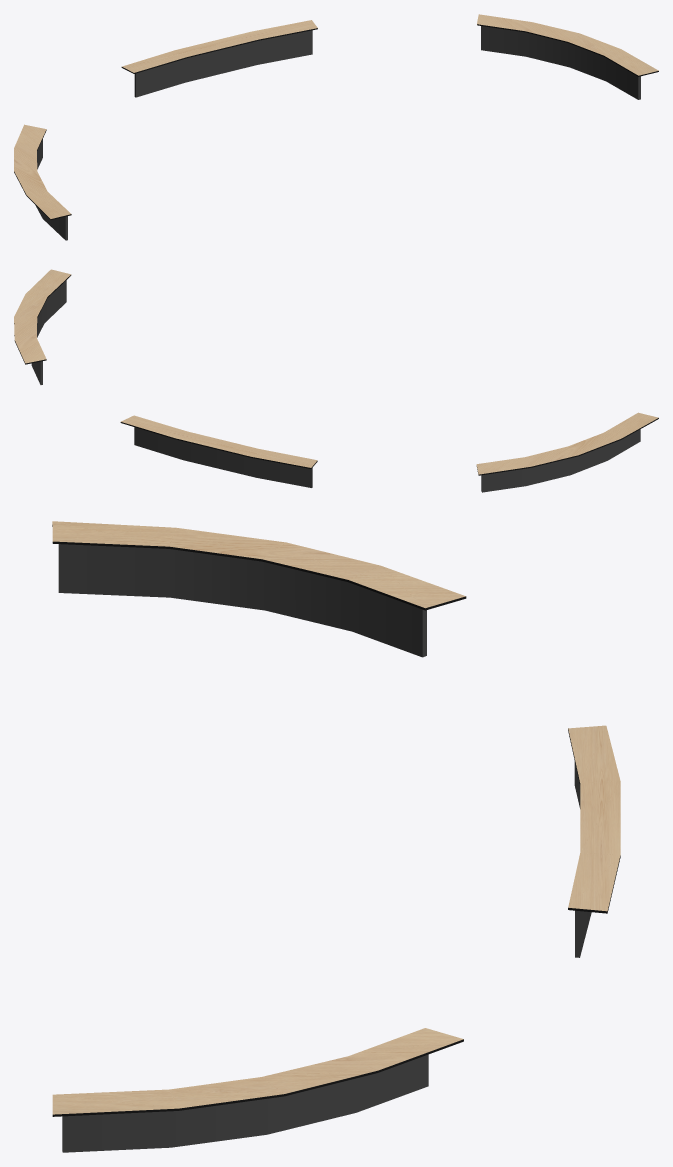
File: Tables 3.FBX
The picture shows the model from 3 angles, top to bottom: view 1: azimuth 30°, elevation 25°; view 2: azimuth 150°, elevation 25°; view 3: azimuth 270°, elevation 25°; orthographic projection. The views are drawn at different scales.
Visible parts, largest first — view 1: tables 3; view 2: tables 3; view 3: tables 3.
Part boxes in pixels (left/top/right/bottom): tables 3: left=14, top=14, right=658, bottom=240; tables 3: left=14, top=269, right=658, bottom=492; tables 3: left=52, top=521, right=620, bottom=1152.
Size of the model in its own units: 1616 by 67.79 by 654.
3 materials, 2 textured.
